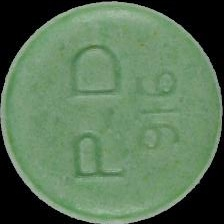52544-233: (0, 0, 224, 224)
